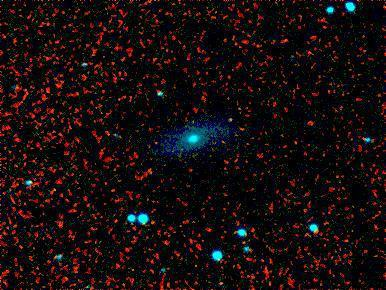star: (135, 155, 165, 185)
